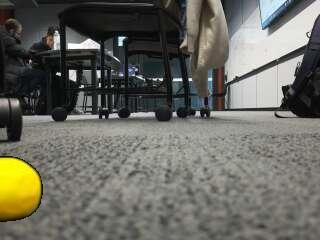lemon: (0, 158, 41, 222)
